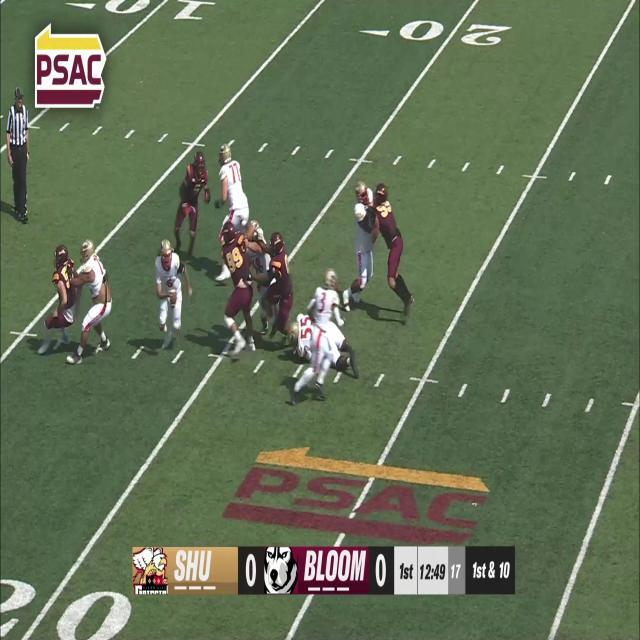football: (168, 288, 178, 310)
